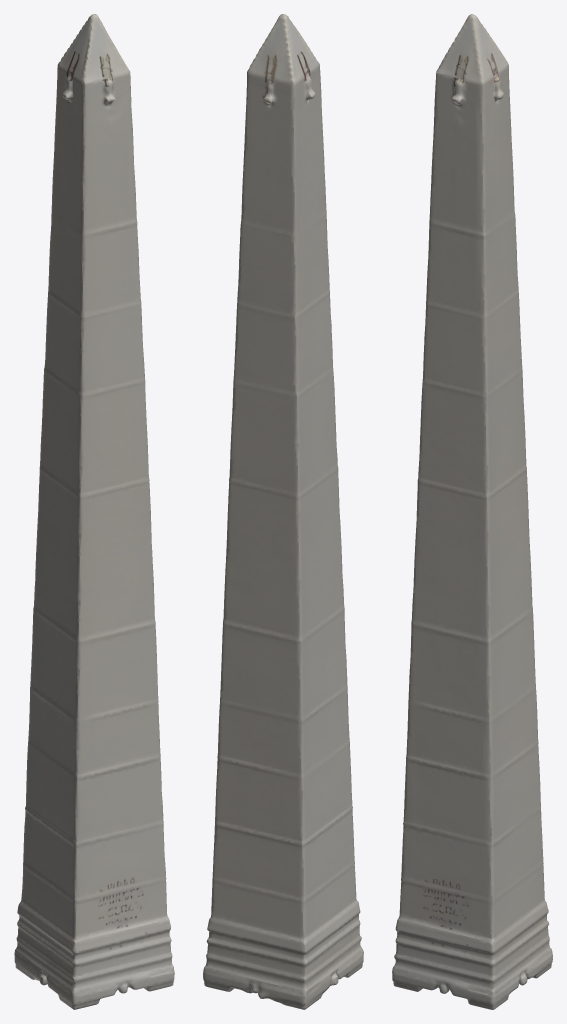
Rendered from obelisco.glb.
3 renders of one model, left to right at view 1: azimuth 30°, elevation 25°; view 2: azimuth 150°, elevation 25°; view 3: azimuth 330°, elevation 25°, orthographic.
Visible parts, largest first — view 1: tripo_node_feb24be8-46ff-423d-ab5a-8e3f69c4e2b2; view 2: tripo_node_feb24be8-46ff-423d-ab5a-8e3f69c4e2b2; view 3: tripo_node_feb24be8-46ff-423d-ab5a-8e3f69c4e2b2.
Boxes of the visible parts, <box> form: tripo_node_feb24be8-46ff-423d-ab5a-8e3f69c4e2b2: <box>14,14,174,1009</box>; tripo_node_feb24be8-46ff-423d-ab5a-8e3f69c4e2b2: <box>203,14,363,1009</box>; tripo_node_feb24be8-46ff-423d-ab5a-8e3f69c4e2b2: <box>392,14,552,1009</box>.
Size of the model in its own units: 0.1163 by 1 by 0.1153.
Materials: 1 (1 with a texture image).
